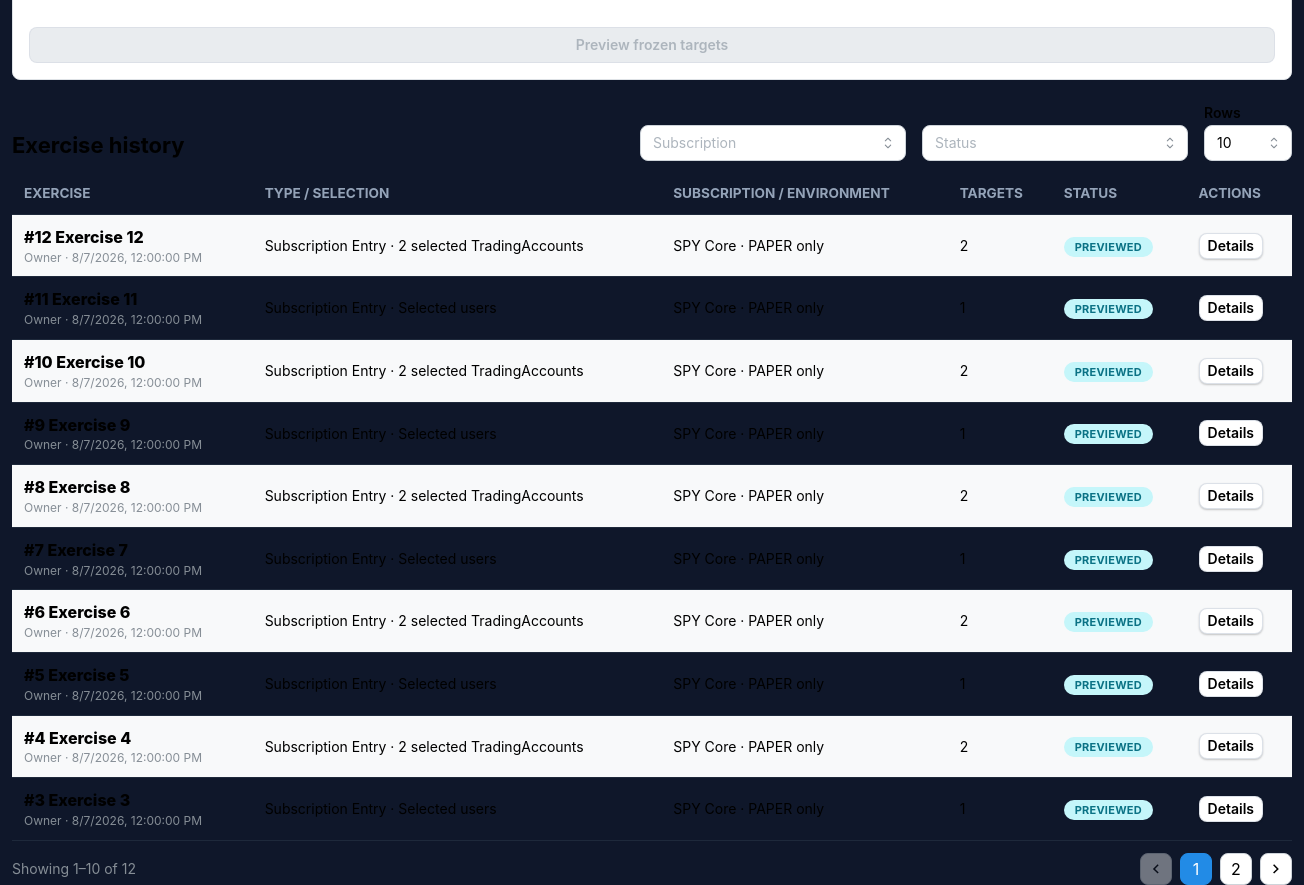
Test case: Lifecycle Exercises creation › limits history to ten rows and paginates the filtered result set
(page scrolled)
Check: the text "Showing 1–10 of 12" is shown, box [12,859,136,879]
Check: the text "#12 Exercise 12" is shown, box [24,227,144,247]
Click the button "2". click: (1236, 869)
box: [1220,853,1252,884]
(page scrolled)
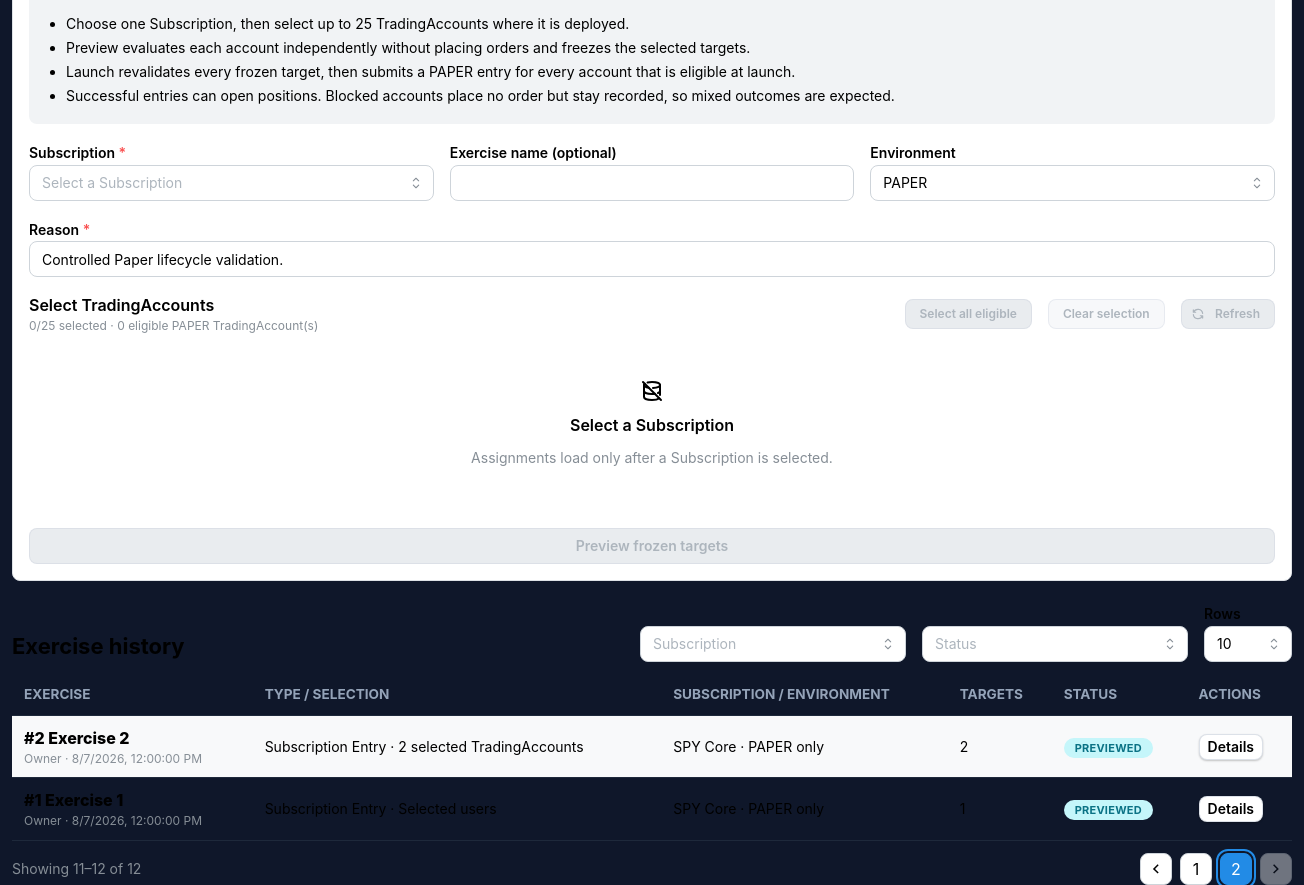
Check: the text "Showing 11–12 of 12" is shown, box [12,859,141,879]
Check: the text "#2 Exercise 2" is shown, box [24,728,130,748]
Check: the text "#12 Exercise 12" is gone
